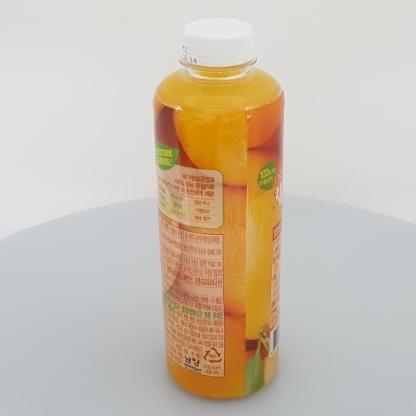-------730ML: (152, 17, 284, 399)
